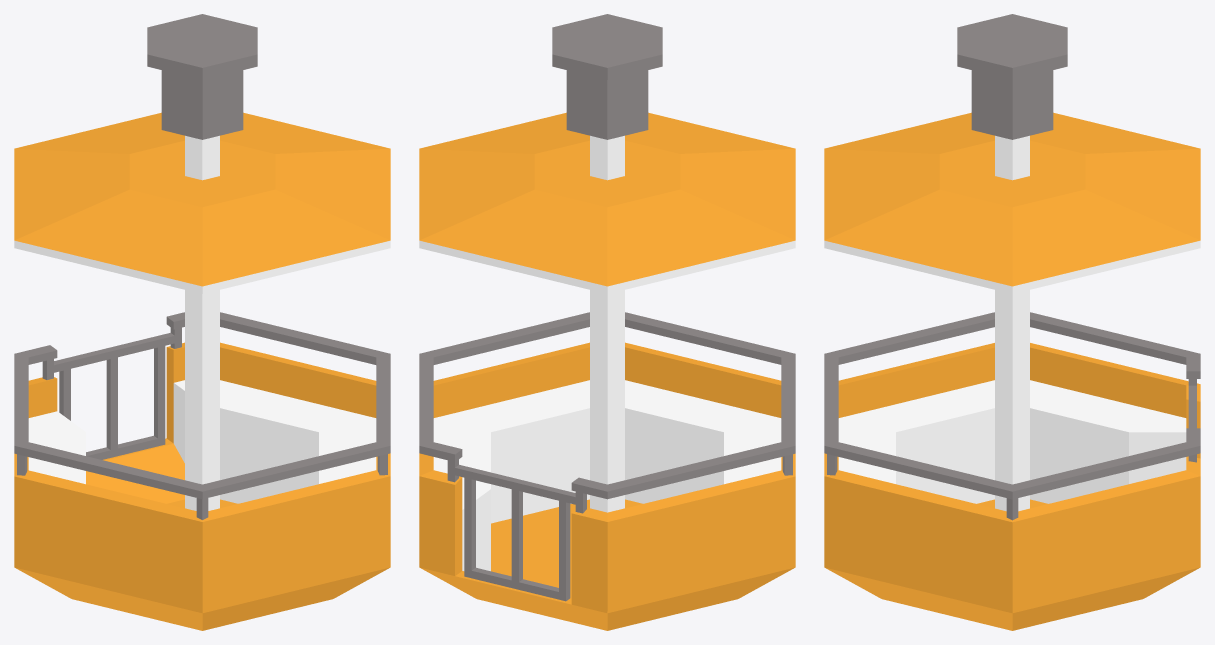
The model's file is ferris-wheel-gondola8.glb.
3 views of the same model, side by side, from view 1: azimuth 30°, elevation 25°; view 2: azimuth 150°, elevation 25°; view 3: azimuth 270°, elevation 25° (orthographic).
Visible parts, largest first — view 1: ferris-wheel-gondola8; view 2: ferris-wheel-gondola8; view 3: ferris-wheel-gondola8.
Boxes of the visible parts, bbox=[...] form: ferris-wheel-gondola8: bbox=[14, 14, 390, 630]; ferris-wheel-gondola8: bbox=[419, 14, 795, 630]; ferris-wheel-gondola8: bbox=[824, 14, 1200, 630].
Bounding box in the file's own units: 2.59 × 3.46 × 2.24.
Materials: 1 (1 with a texture image).
